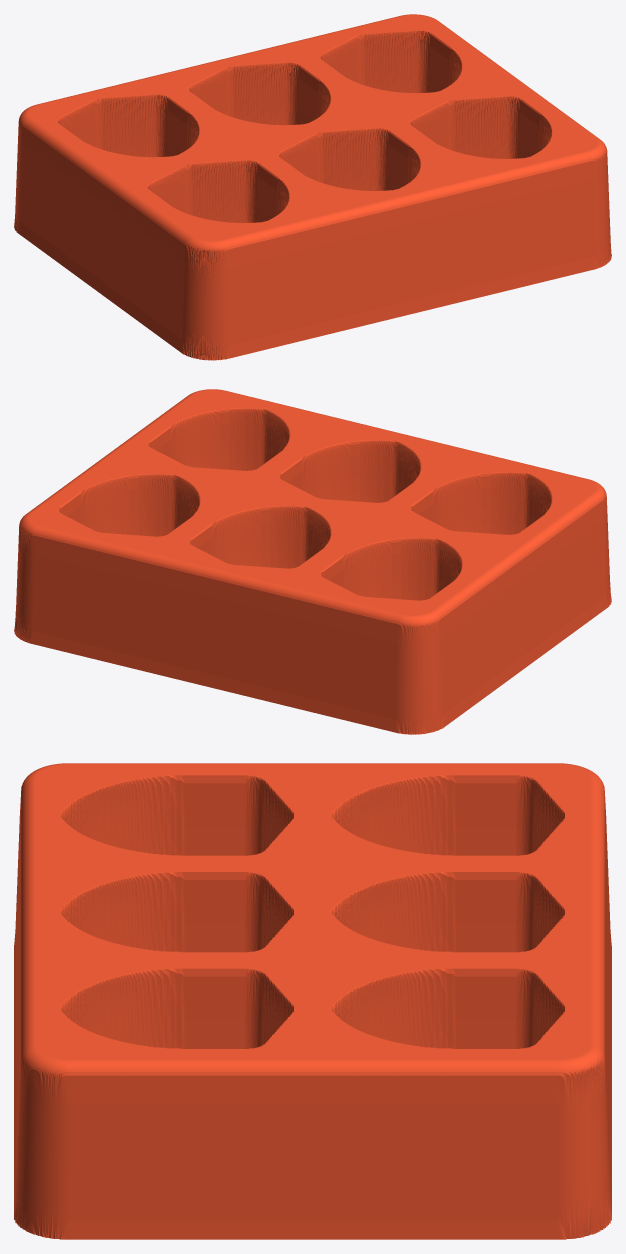
The model's file is mold.glb.
3 views of the same model, one above another, from view 1: azimuth 30°, elevation 25°; view 2: azimuth 150°, elevation 25°; view 3: azimuth 270°, elevation 25° (orthographic). The views are drawn at different scales.
Visible parts, largest first — view 1: geometry_0; view 2: geometry_0; view 3: geometry_0.
Part boxes in pixels (<box>): geometry_0: <box>14,14,611,360</box>; geometry_0: <box>14,389,611,734</box>; geometry_0: <box>14,763,611,1239</box>.
Bounding box in the file's own units: 0.1235 × 0.0314 × 0.0996.
